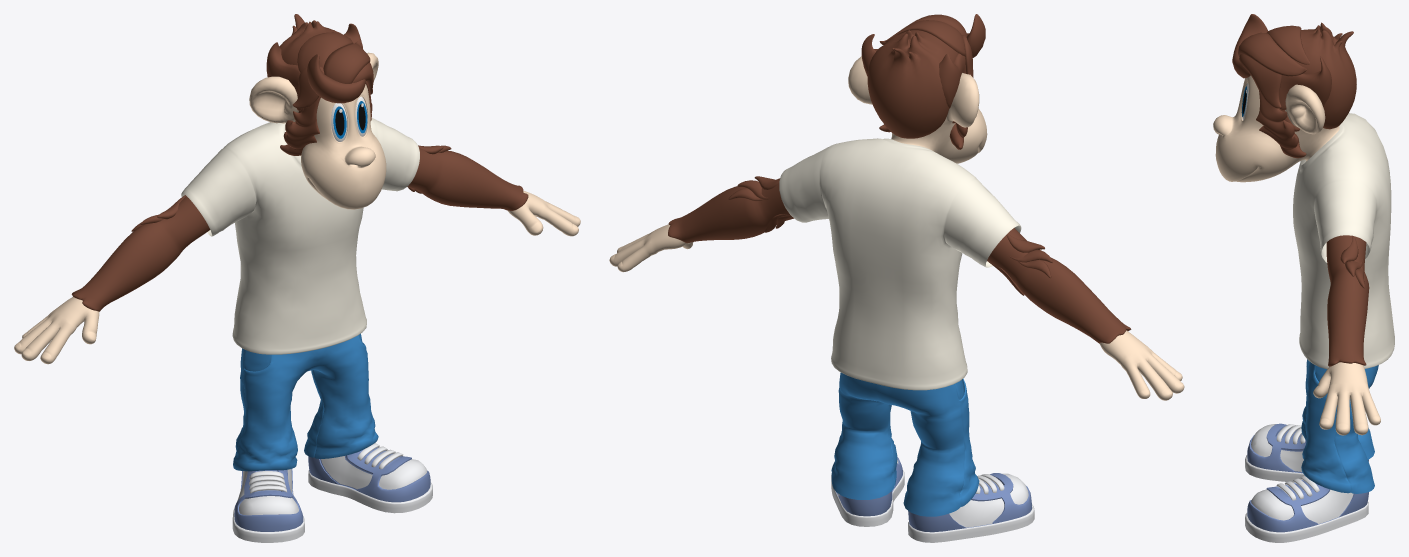
File: lcw-waikiki.glb
3 renders of one model, left to right at view 1: azimuth 30°, elevation 25°; view 2: azimuth 150°, elevation 25°; view 3: azimuth 270°, elevation 25°, orthographic. The views are drawn at different scales.
Visible parts, largest first — view 1: tisort_geo, vucut_geo, pantalon_geo, ayakkabi_geo, sac_on_geo, el_geo, favori_A_R_geo, sac_arka_geo; view 2: tisort_geo, pantalon_geo, vucut_geo, sac_arka_geo, ayakkabi_geo, el_geo, sac_on_geo, dirsek_tuy_geo; view 3: tisort_geo, vucut_geo, ayakkabi_geo, pantalon_geo, sac_on_geo, el_geo, sac_arka_geo, favori_A_L_geo, dirsek_tuy_geo.
Boxes of the visible parts, <box> form: tisort_geo: <box>181,117,419,354</box>; vucut_geo: <box>71,52,528,311</box>; pantalon_geo: <box>233,333,378,471</box>; ayakkabi_geo: <box>232,443,432,542</box>; sac_on_geo: <box>266,23,373,110</box>; el_geo: <box>14,190,580,364</box>; favori_A_R_geo: <box>280,96,320,155</box>; sac_arka_geo: <box>279,14,341,121</box>; tisort_geo: <box>779,138,1021,390</box>; pantalon_geo: <box>831,372,979,516</box>; vucut_geo: <box>668,56,1131,343</box>; sac_arka_geo: <box>867,30,957,138</box>; ayakkabi_geo: <box>831,457,1034,542</box>; el_geo: <box>609,224,1184,400</box>; sac_on_geo: <box>861,14,985,108</box>; dirsek_tuy_geo: <box>728,176,1052,295</box>; tisort_geo: <box>1293,113,1394,369</box>; vucut_geo: <box>1213,75,1369,366</box>; ayakkabi_geo: <box>1245,423,1368,542</box>; pantalon_geo: <box>1301,359,1378,493</box>; sac_on_geo: <box>1232,14,1331,109</box>; el_geo: <box>1313,362,1380,435</box>; sac_arka_geo: <box>1279,25,1356,131</box>; favori_A_L_geo: <box>1256,91,1306,158</box>; dirsek_tuy_geo: <box>1340,235,1364,288</box>.
Size of the model in its own units: 1.24 by 1.01 by 0.3539.
